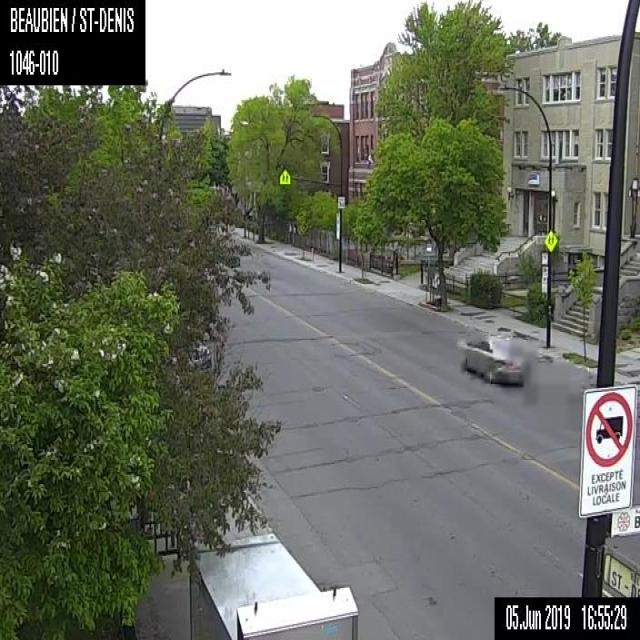vehicle: (459, 335, 525, 384), (189, 339, 211, 368)
